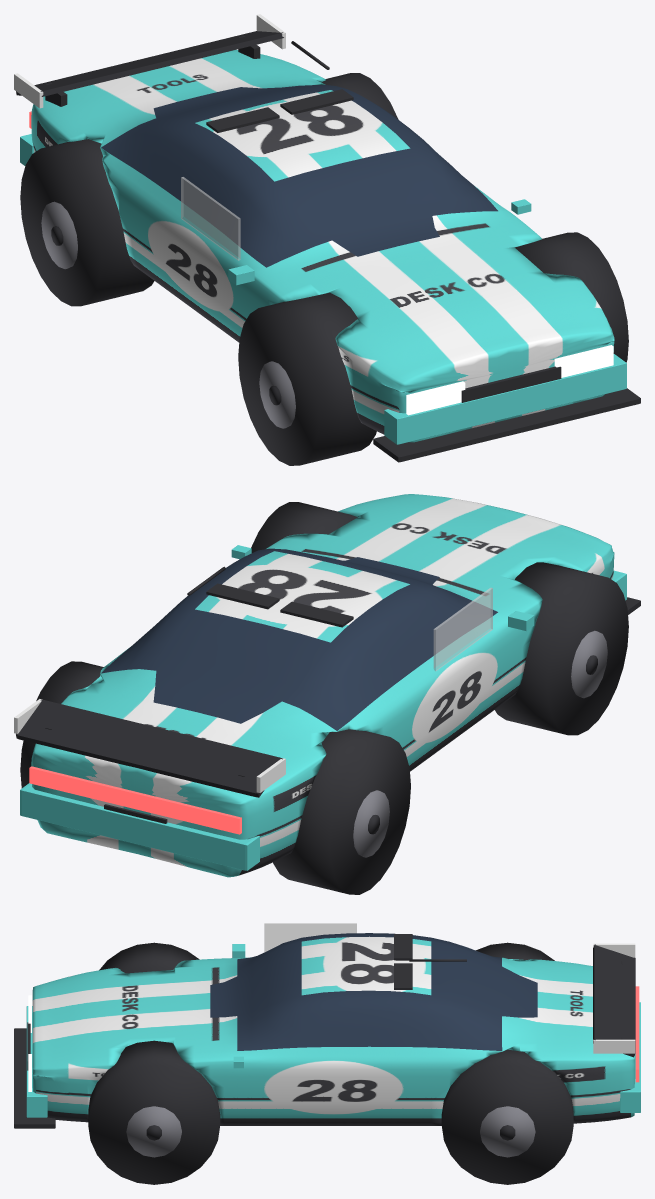
The model's file is car_7.glb.
The picture shows the model from 3 angles, top to bottom: view 1: azimuth 30°, elevation 25°; view 2: azimuth 150°, elevation 25°; view 3: azimuth 270°, elevation 25°; orthographic projection. The views are drawn at different scales.
Parts seen in each view (by area): view 1: body, cutter, cutter.002, bumperF, cutter.001, splitter, spoiler, net, dish.002, dish, grille, headlight (+4 smaller); view 2: body, cutter, cutter.002, spoiler, bumperR, tail, net, cutter.001, cutter.003, dish, dish.002, flap.001 (+2 smaller); view 3: body, cutter.001, cutter.003, spoiler, dish.003, dish.001, cutter, splitter, net, cutter.002, bumperF, bumperR (+4 smaller).
Boxes of the visible parts, x1,y1,x2,y2 form: body: (31,50,614,442); cutter: (238,292,376,465); cutter.002: (20,139,154,306); bumperF: (384,354,626,444); cutter.001: (515,232,628,362); splitter: (373,388,640,462); spoiler: (16,31,283,96); net: (181,177,240,260); dish.002: (41,201,77,269); dish: (259,361,295,428); grille: (461,366,561,402); headlight: (406,381,465,415); body: (31,494,614,877); cutter: (495,562,628,735); cutter.002: (273,729,410,894); spoiler: (16,699,282,797); bumperR: (20,783,259,870); tail: (29,766,241,834); net: (433,587,492,671); cutter.001: (251,502,357,552); cutter.003: (20,661,103,788); dish: (571,630,607,698); dish.002: (353,790,389,857); flap.001: (206,583,279,609); body: (32,933,635,1125); cutter.001: (88,1040,220,1184); cutter.003: (441,1049,573,1184); spoiler: (593,944,635,1057); dish.003: (480,1106,535,1157); dish.001: (126,1106,181,1157); cutter: (99,942,199,973); splitter: (14,1028,55,1128); net: (264,923,356,952); cutter.002: (476,942,554,960); bumperF: (26,1006,47,1117); bumperR: (620,1002,640,1112).
Size of the model in its own units: 2.58 by 1.76 by 5.41.
11 materials, 1 textured.
